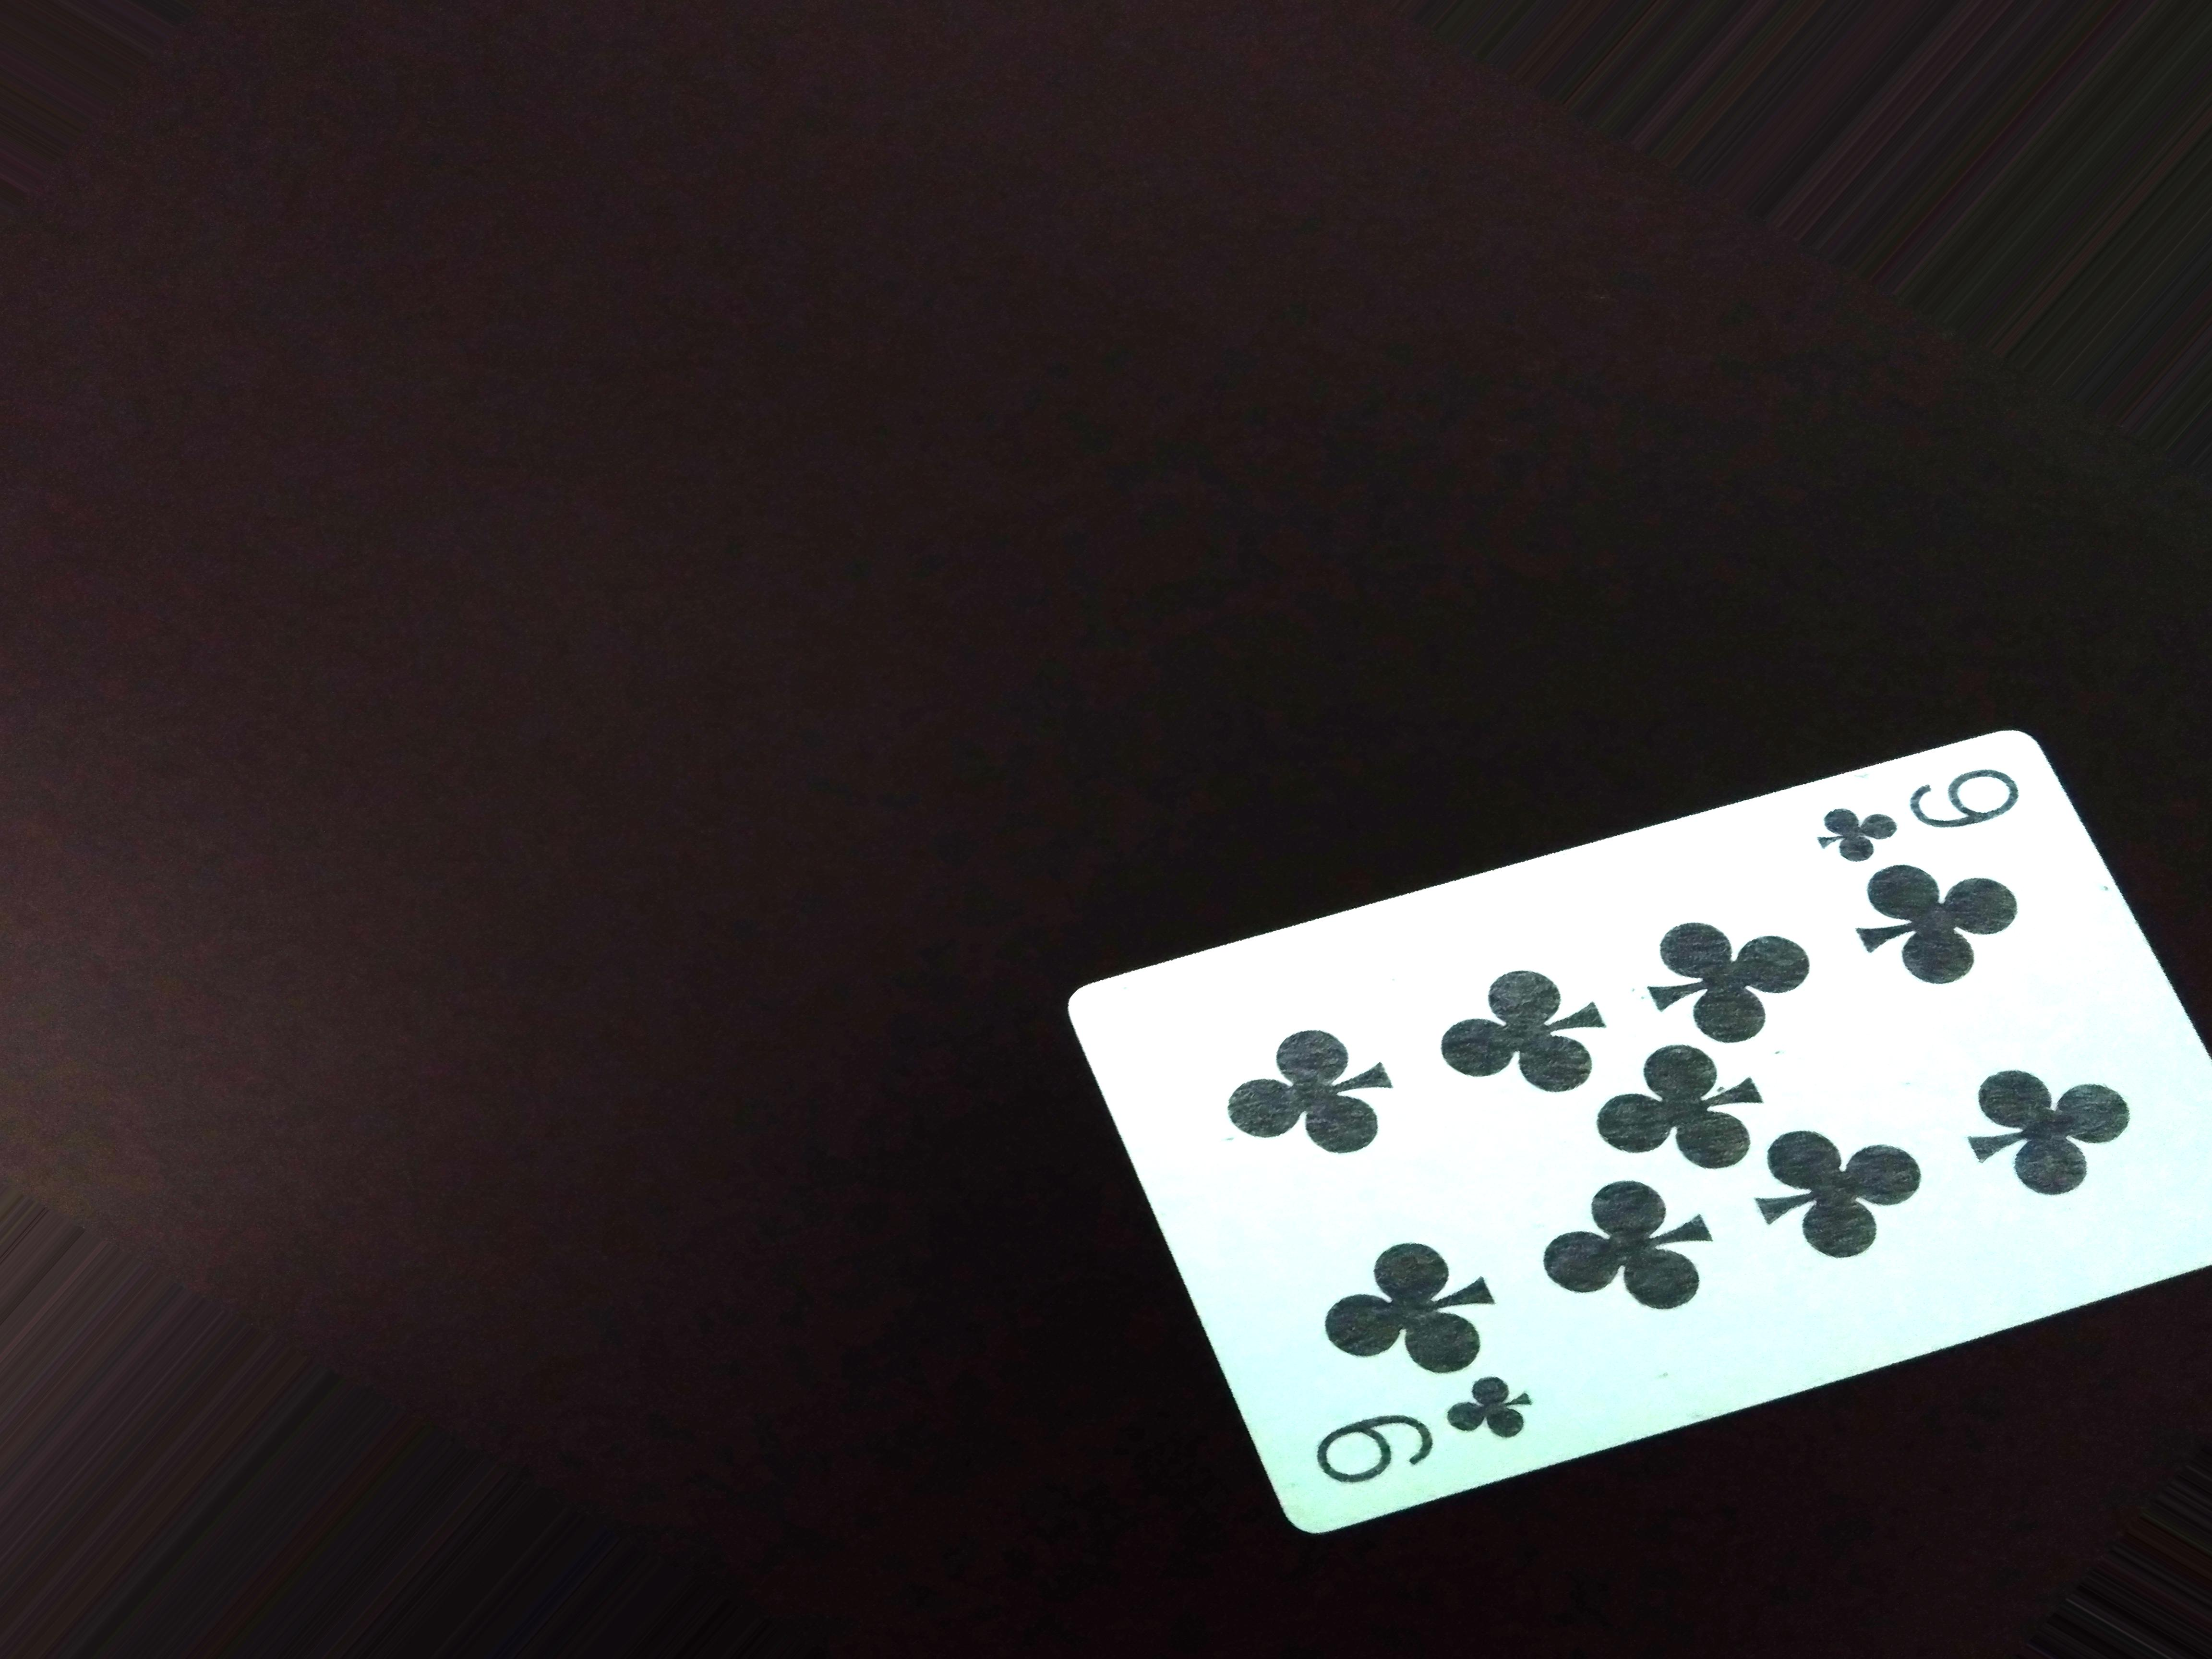9C: (1820, 744, 2027, 878)
